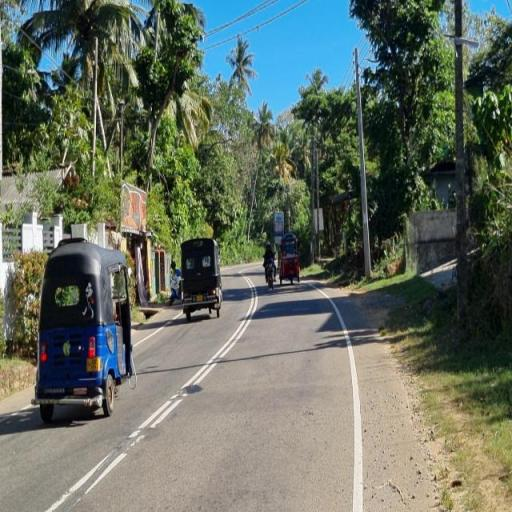double_white_line: (59, 275, 261, 474)
